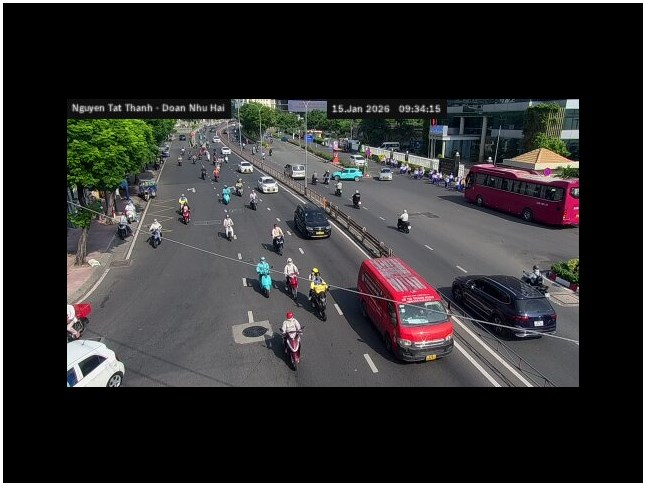bus: (463, 164, 578, 227)
car: (356, 254, 455, 363), (449, 273, 558, 339), (67, 339, 126, 386), (292, 202, 332, 239), (332, 167, 364, 182), (256, 176, 279, 194), (238, 162, 254, 173), (378, 169, 393, 180)
